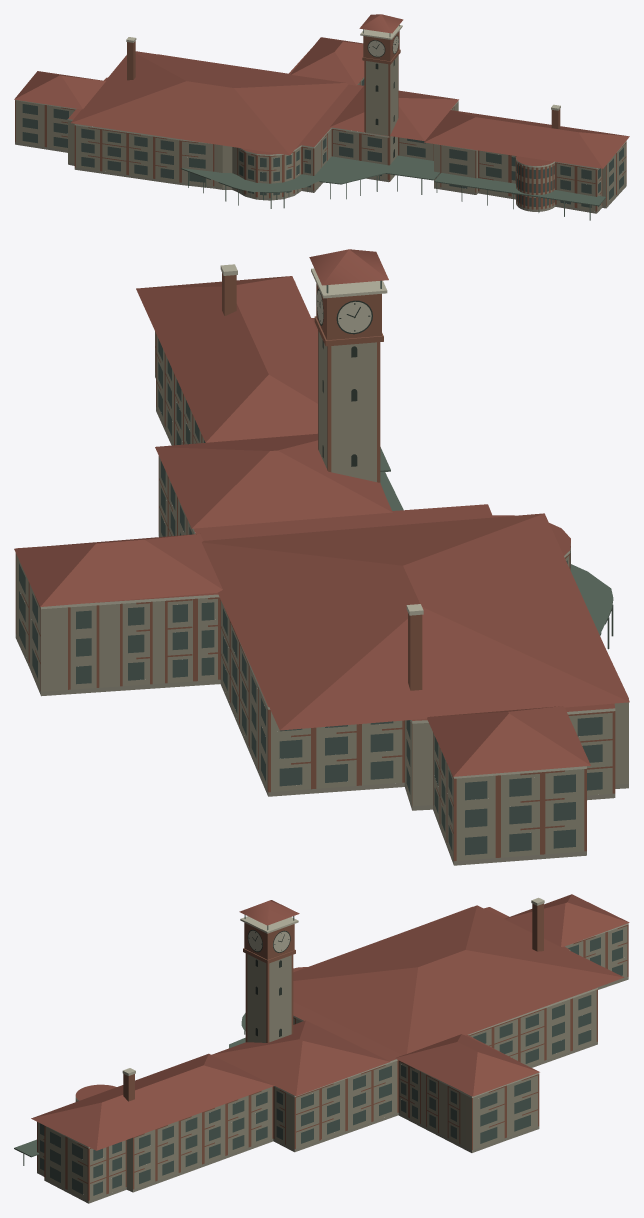
File: portland-union-station-far.glb
3 renders of one model, top to bottom at view 1: azimuth 30°, elevation 25°; view 2: azimuth 150°, elevation 25°; view 3: azimuth 270°, elevation 25°, orthographic. The views are drawn at different scales.
Parts seen in each view (by area): view 1: portland-union-station-0-roof, portland-union-station-0-stone, portland-union-station-0-glass, portland-union-station-0-brick, portland-union-station-0-metal, portland-union-station-0-trim, portland-union-station-0-base; view 2: portland-union-station-0-roof, portland-union-station-0-stone, portland-union-station-0-glass, portland-union-station-0-brick, portland-union-station-0-trim, portland-union-station-0-base, portland-union-station-0-metal; view 3: portland-union-station-0-roof, portland-union-station-0-stone, portland-union-station-0-glass, portland-union-station-0-brick, portland-union-station-0-base, portland-union-station-0-trim, portland-union-station-0-metal.
Boxes of the visible parts, box(x1,y1,x2,y2) form: portland-union-station-0-roof: box(14, 14, 629, 168); portland-union-station-0-stone: box(16, 56, 626, 211); portland-union-station-0-glass: box(22, 79, 623, 207); portland-union-station-0-brick: box(15, 31, 626, 211); portland-union-station-0-metal: box(180, 25, 605, 220); portland-union-station-0-trim: box(15, 25, 626, 169); portland-union-station-0-base: box(15, 142, 626, 213); portland-union-station-0-roof: box(14, 249, 629, 776); portland-union-station-0-stone: box(16, 331, 628, 860); portland-union-station-0-glass: box(19, 339, 602, 855); portland-union-station-0-brick: box(15, 273, 615, 861); portland-union-station-0-trim: box(40, 264, 628, 778); portland-union-station-0-base: box(15, 373, 628, 865); portland-union-station-0-metal: box(326, 280, 613, 649); portland-union-station-0-roof: box(31, 894, 629, 1150); portland-union-station-0-stone: box(38, 926, 627, 1200); portland-union-station-0-glass: box(40, 929, 622, 1195); portland-union-station-0-brick: box(37, 903, 628, 1200); portland-union-station-0-base: box(37, 977, 628, 1203); portland-union-station-0-trim: box(46, 897, 628, 1148); portland-union-station-0-metal: box(14, 915, 294, 1165).
Bounding box in the file's own units: 126 × 45.72 × 128.
